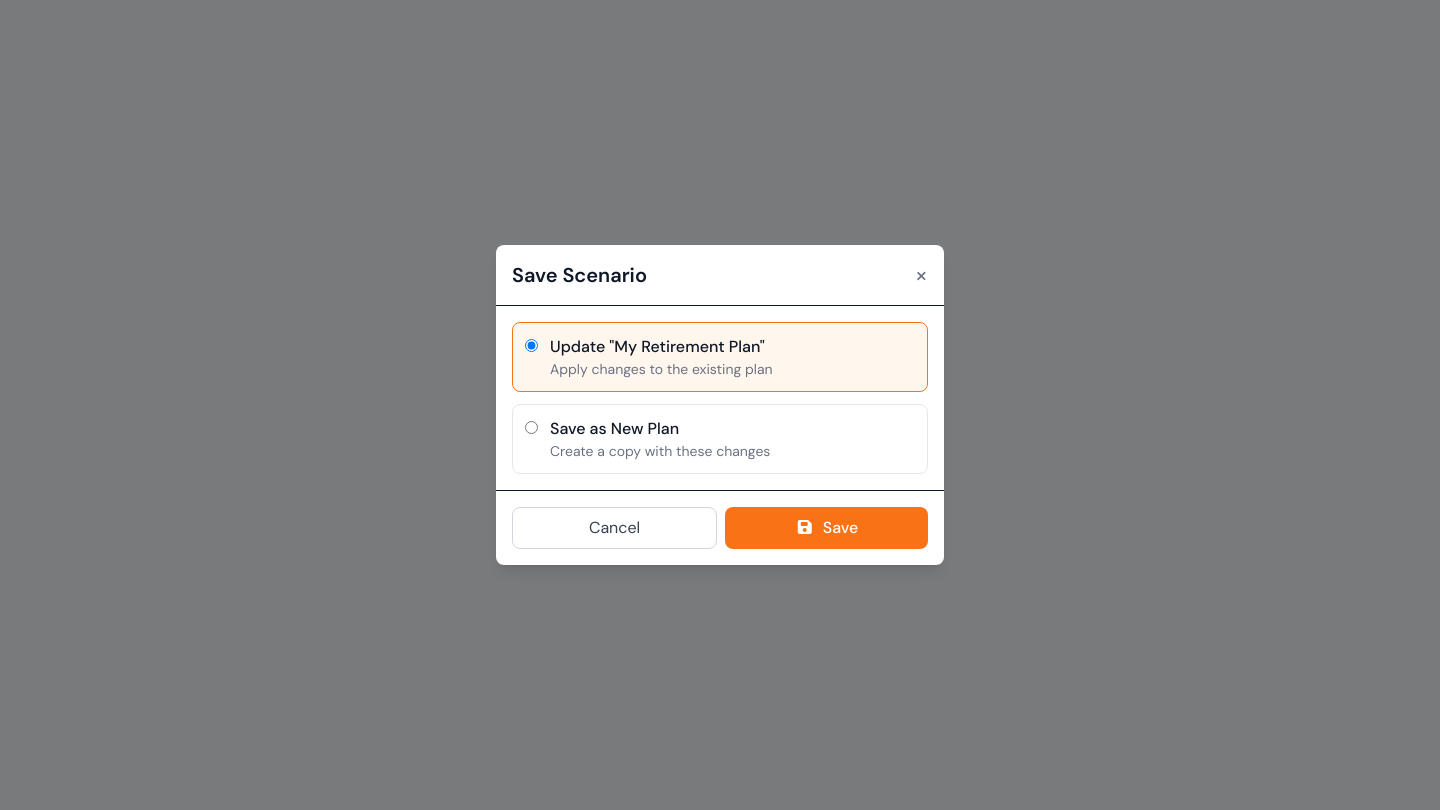
SaveScenarioDialog › shows new plan name input when save as new is selected
The width and height of the screenshot is (1440, 810).
Click the radio button labelled "Save as New Plan Create a copy with these changes".
click(532, 428)  # box [525,421,538,434]
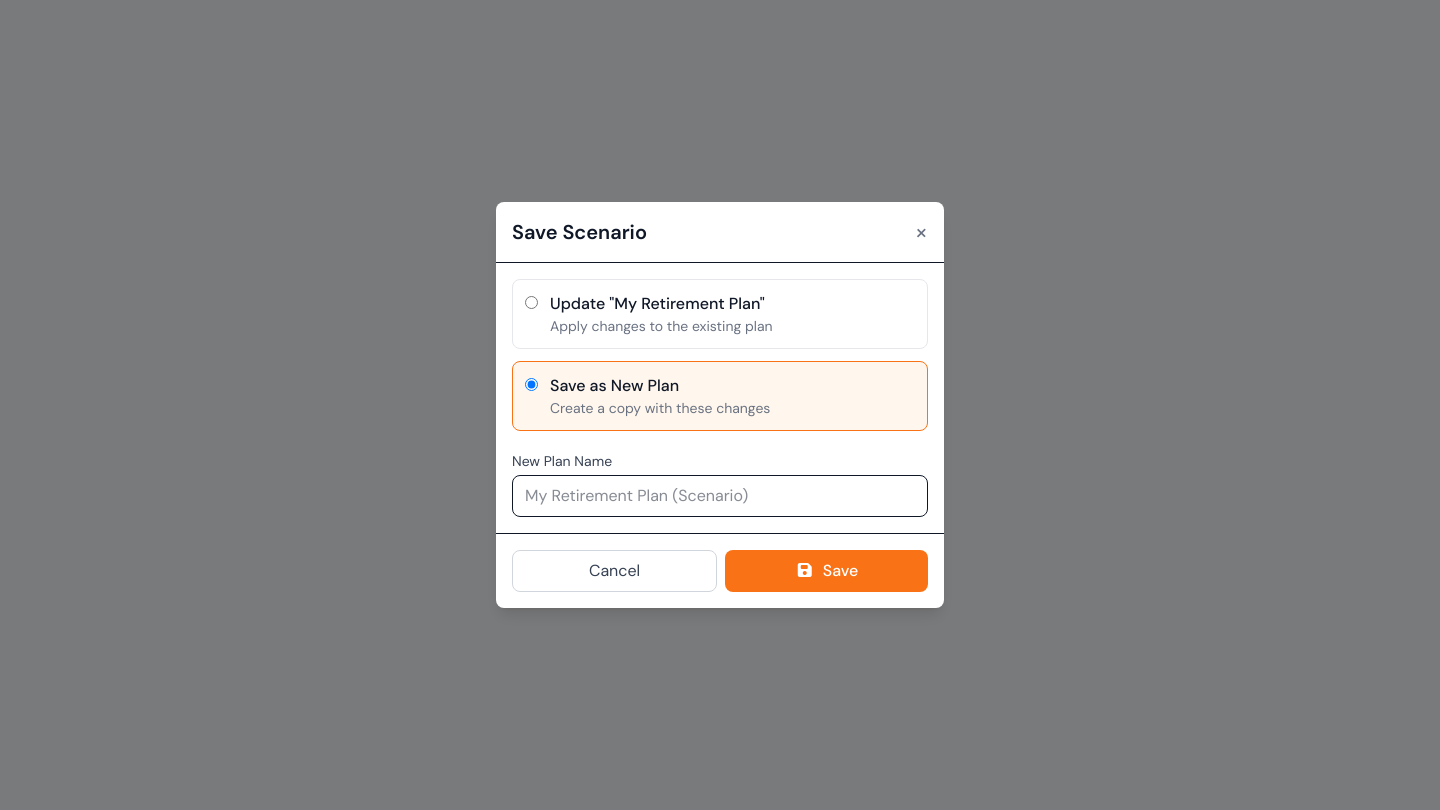
Now the field with placeholder "My Retirement Plan (Scenario)" is shown, box [512,475,928,517]
